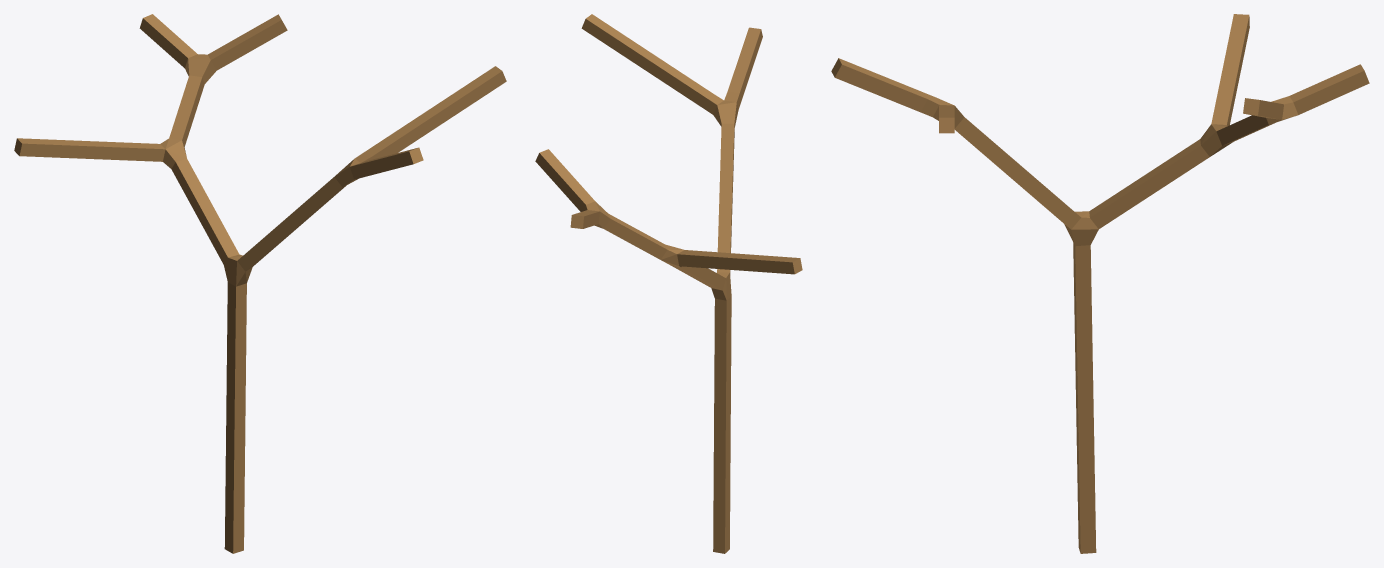
File: Desert1.fbx
3 views of the same model, side by side, from view 1: azimuth 30°, elevation 25°; view 2: azimuth 150°, elevation 25°; view 3: azimuth 270°, elevation 25° (orthographic). The views are drawn at different scales.
Parts seen in each view (by area): view 1: Cube.008; view 2: Cube.008; view 3: Cube.008.
Part boxes in pixels (x1,y1,x2,y2): Cube.008: [14, 14, 506, 553]; Cube.008: [535, 14, 802, 553]; Cube.008: [831, 14, 1369, 553].
Size of the model in its own units: 40.2 by 51.09 by 45.65.
